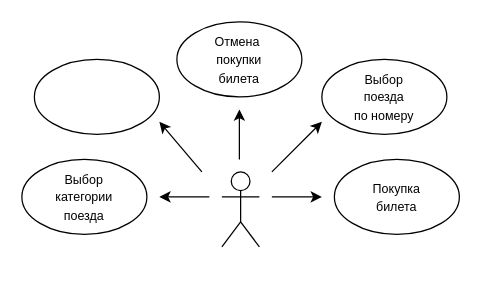
The diagram is 481 pixels wide and 295 high, and some of its shapes have lost their labels. The shapes that lost their labels are listed below. From the top down, each one's centre as x and y in pixels, then its label:
At (x=96, y=96): "Выбор количества билетов".
At (x=240, y=209): "Пассажир".
